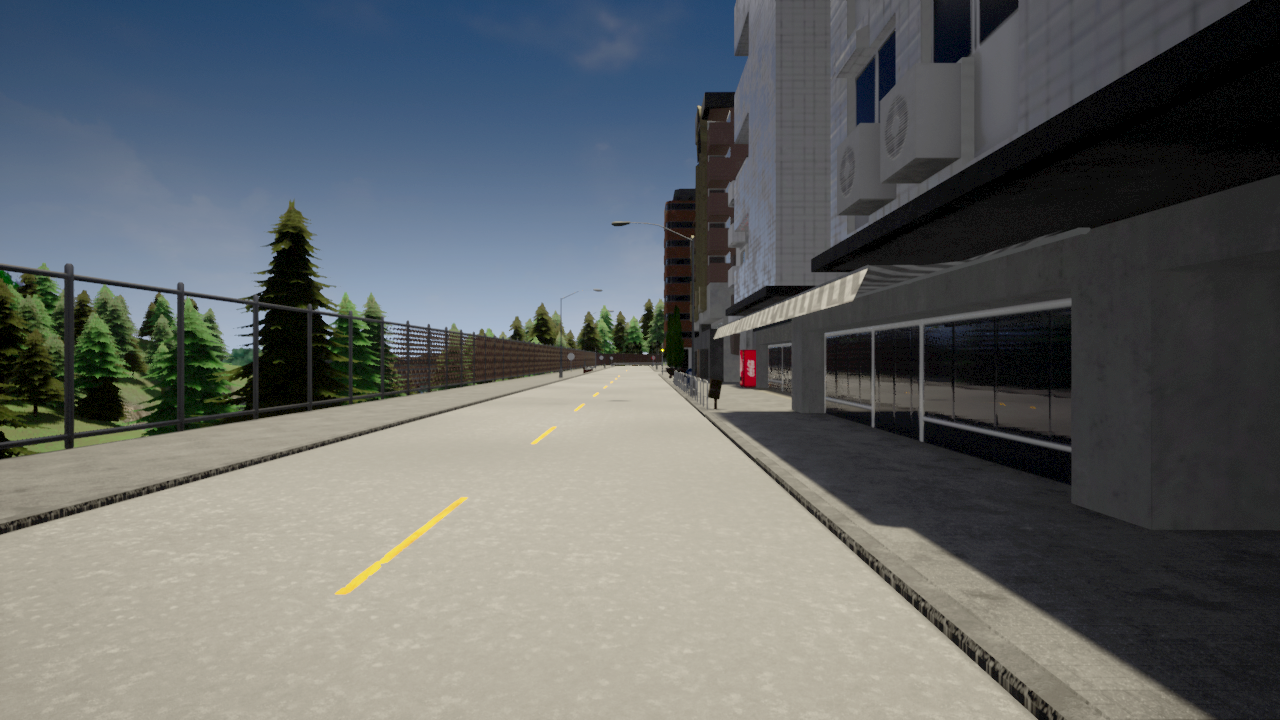yellow: (660, 345, 665, 355)
